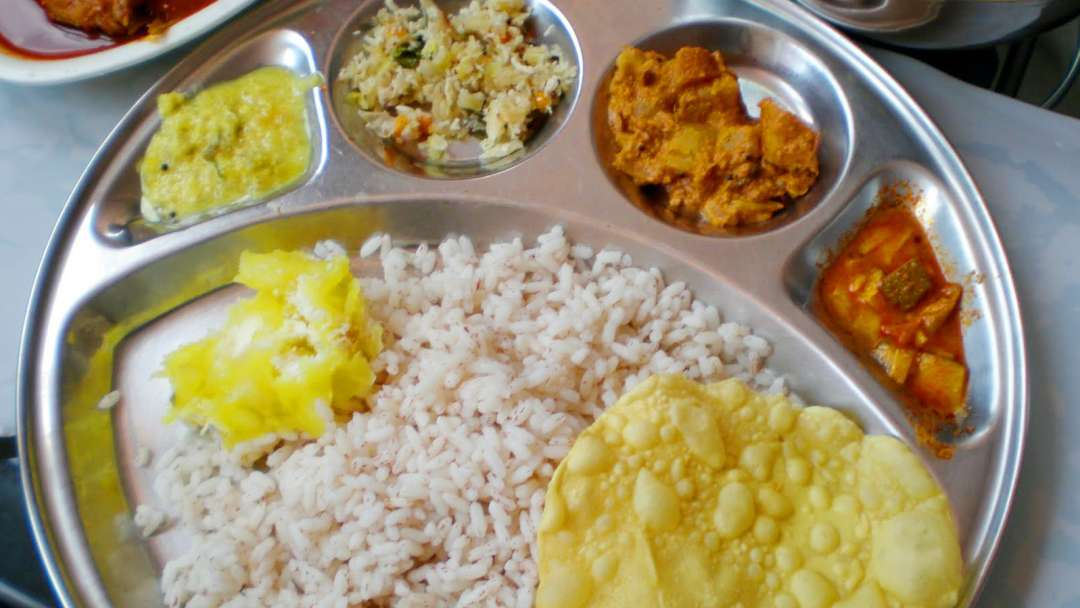curry: (801, 176, 998, 415), (606, 28, 819, 241), (132, 63, 341, 203)
rice: (143, 230, 680, 608)
